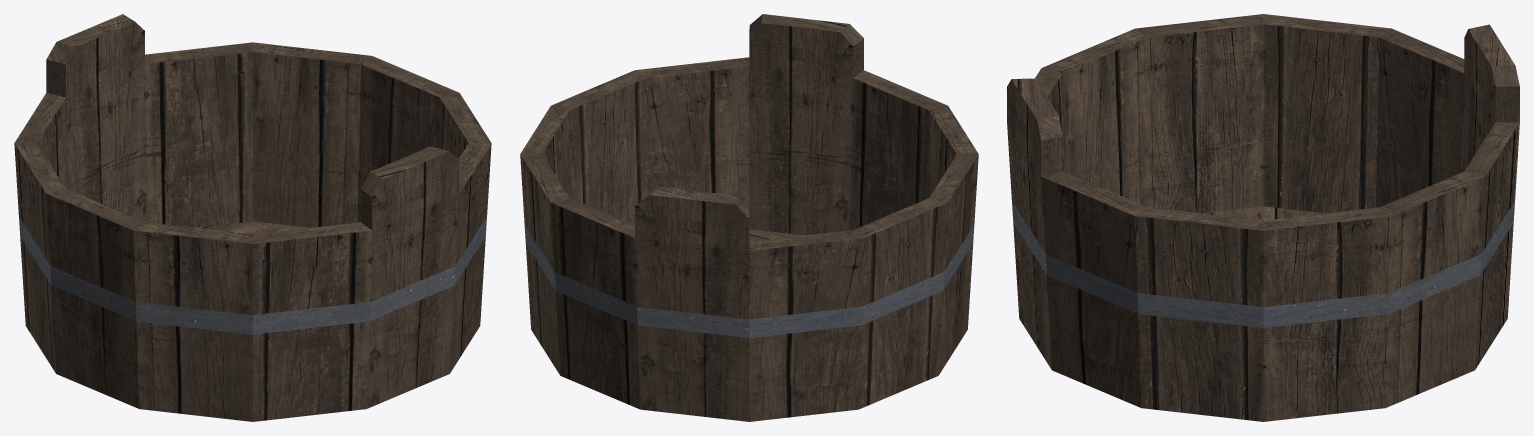
The model's file is f1_tub.dae.
The picture shows the model from 3 angles, left to right: view 1: azimuth 30°, elevation 25°; view 2: azimuth 150°, elevation 25°; view 3: azimuth 270°, elevation 25°; orthographic projection. The views are drawn at different scales.
Visible parts, largest first — view 1: f1_tub_Layer1; view 2: f1_tub_Layer1; view 3: f1_tub_Layer1.
Boxes of the visible parts, x1=… form: f1_tub_Layer1: x1=14, y1=14, x2=491, y2=421; f1_tub_Layer1: x1=520, y1=14, x2=978, y2=421; f1_tub_Layer1: x1=1007, y1=14, x2=1519, y2=421.
Bounding box in the file's own units: 1.3 × 0.69 × 1.3.
